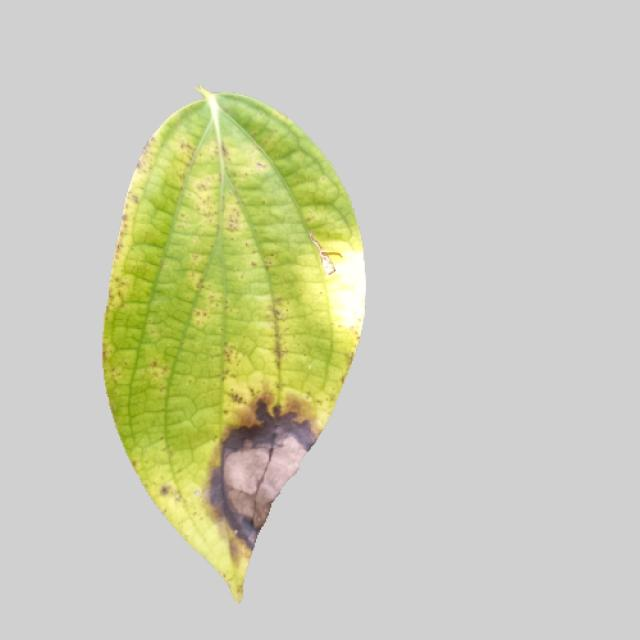leaf-blight: (86, 91, 371, 600)
